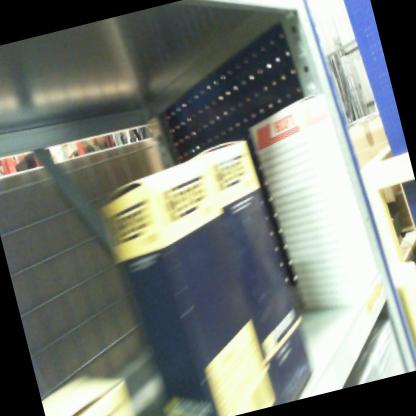pallet: (376, 220, 416, 295)
